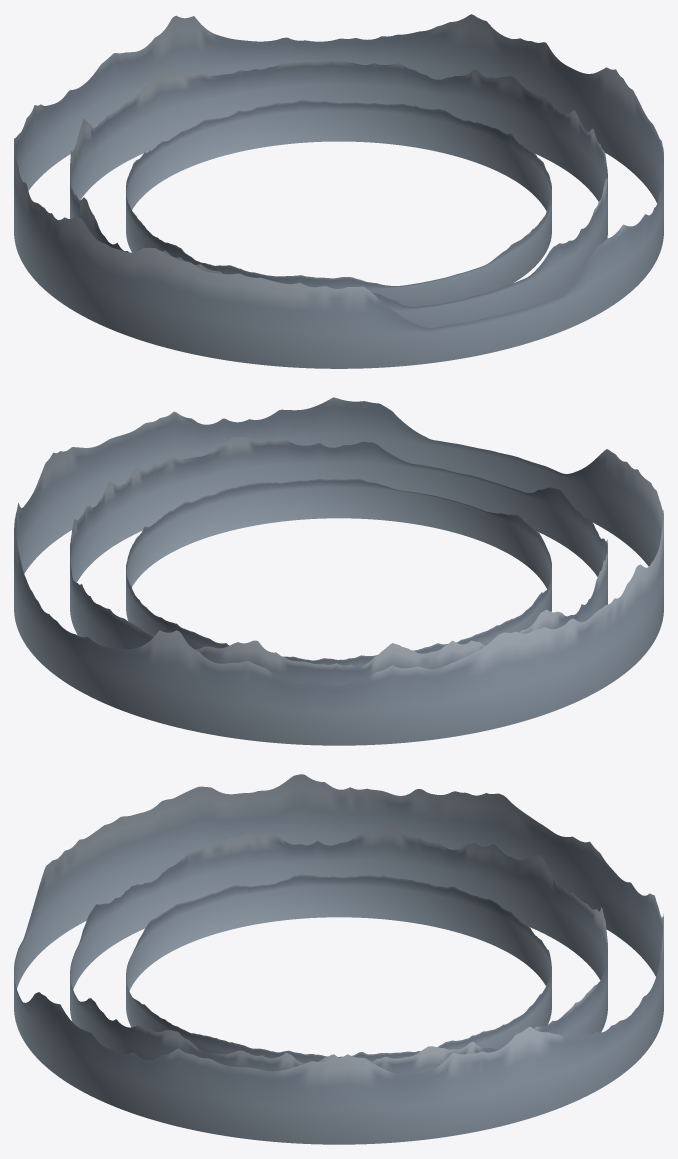
3 renders of one model, top to bottom at view 1: azimuth 30°, elevation 25°; view 2: azimuth 150°, elevation 25°; view 3: azimuth 270°, elevation 25°, orthographic.
Visible parts, largest first — view 1: Backdrop_L2_3; view 2: Backdrop_L2_3; view 3: Backdrop_L2_3.
Part boxes in pixels (left/top/right/bottom): Backdrop_L2_3: left=14, top=14, right=663, bottom=368; Backdrop_L2_3: left=14, top=397, right=663, bottom=745; Backdrop_L2_3: left=14, top=774, right=663, bottom=1144.
Bounding box in the file's own units: 2320 × 382 × 2320.
